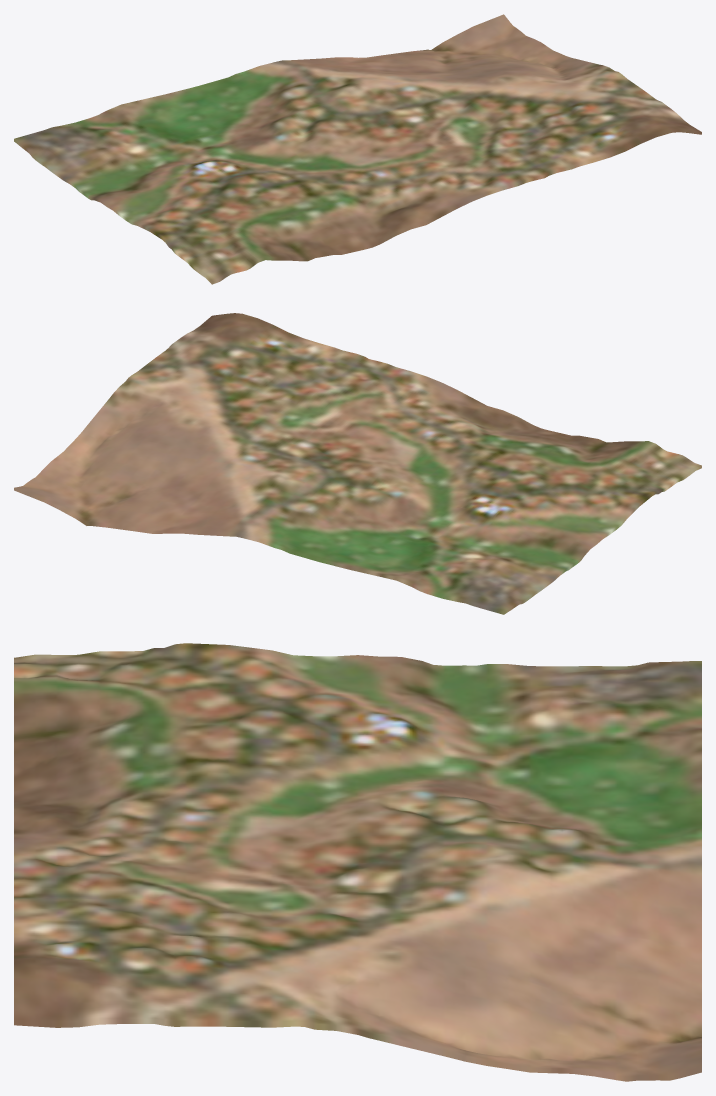
Rendered from terrain_r7_c2_lod1.glb.
3 renders of one model, top to bottom at view 1: azimuth 30°, elevation 25°; view 2: azimuth 150°, elevation 25°; view 3: azimuth 270°, elevation 25°, orthographic. The views are drawn at different scales.
Visible parts, largest first — view 1: terrain_r7_c2_lod1; view 2: terrain_r7_c2_lod1; view 3: terrain_r7_c2_lod1.
Part boxes in pixels (x1,y1,x2,y2): terrain_r7_c2_lod1: (14,14,701,284); terrain_r7_c2_lod1: (14,313,701,614); terrain_r7_c2_lod1: (14,643,701,1081).
Size of the model in its own units: 1125 by 125 by 787.
1 material, 1 textured.
